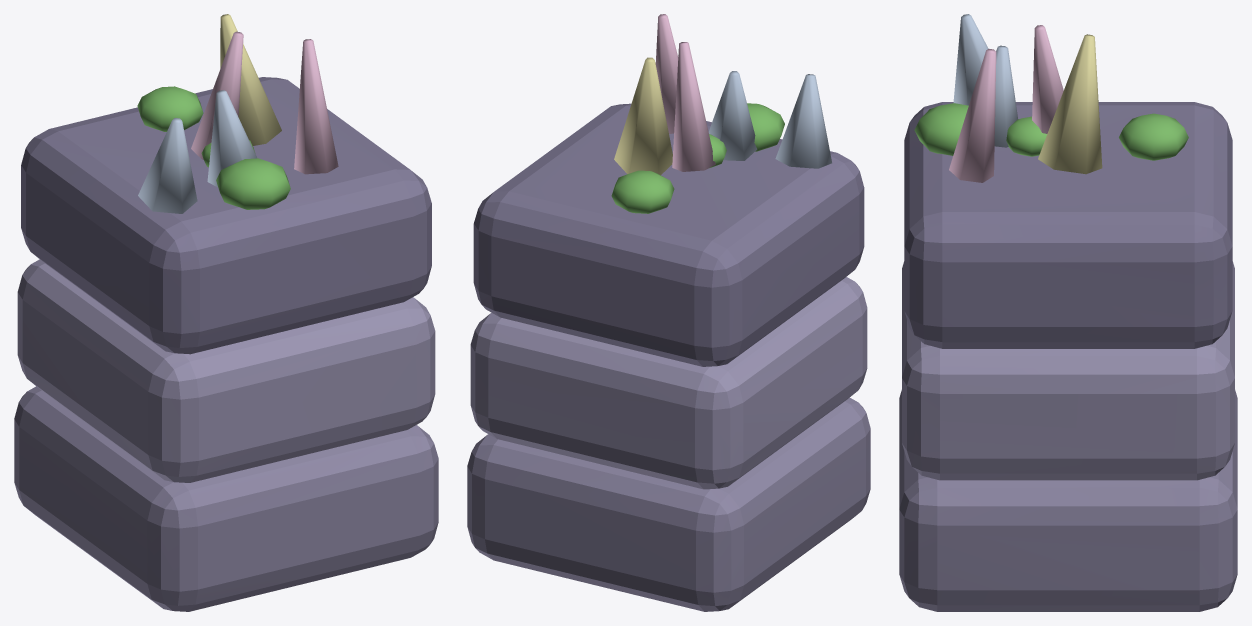
The model's file is gym_wall_shrine_lite.glb.
3 renders of one model, left to right at view 1: azimuth 30°, elevation 25°; view 2: azimuth 150°, elevation 25°; view 3: azimuth 270°, elevation 25°, orthographic. The views are drawn at different scales.
Parts seen in each view (by area): view 1: Cube; view 2: Cube; view 3: Cube.
Boxes of the visible parts, bbox=[...] form: Cube: bbox=[14, 14, 438, 611]; Cube: bbox=[467, 14, 870, 611]; Cube: bbox=[899, 14, 1237, 611].
Bounding box in the file's own units: 1.96 × 3.36 × 1.96.
